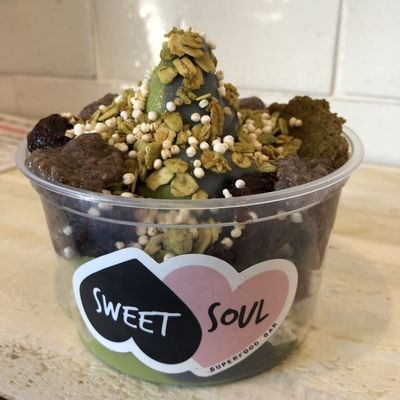sushi: (9, 69, 365, 359)
